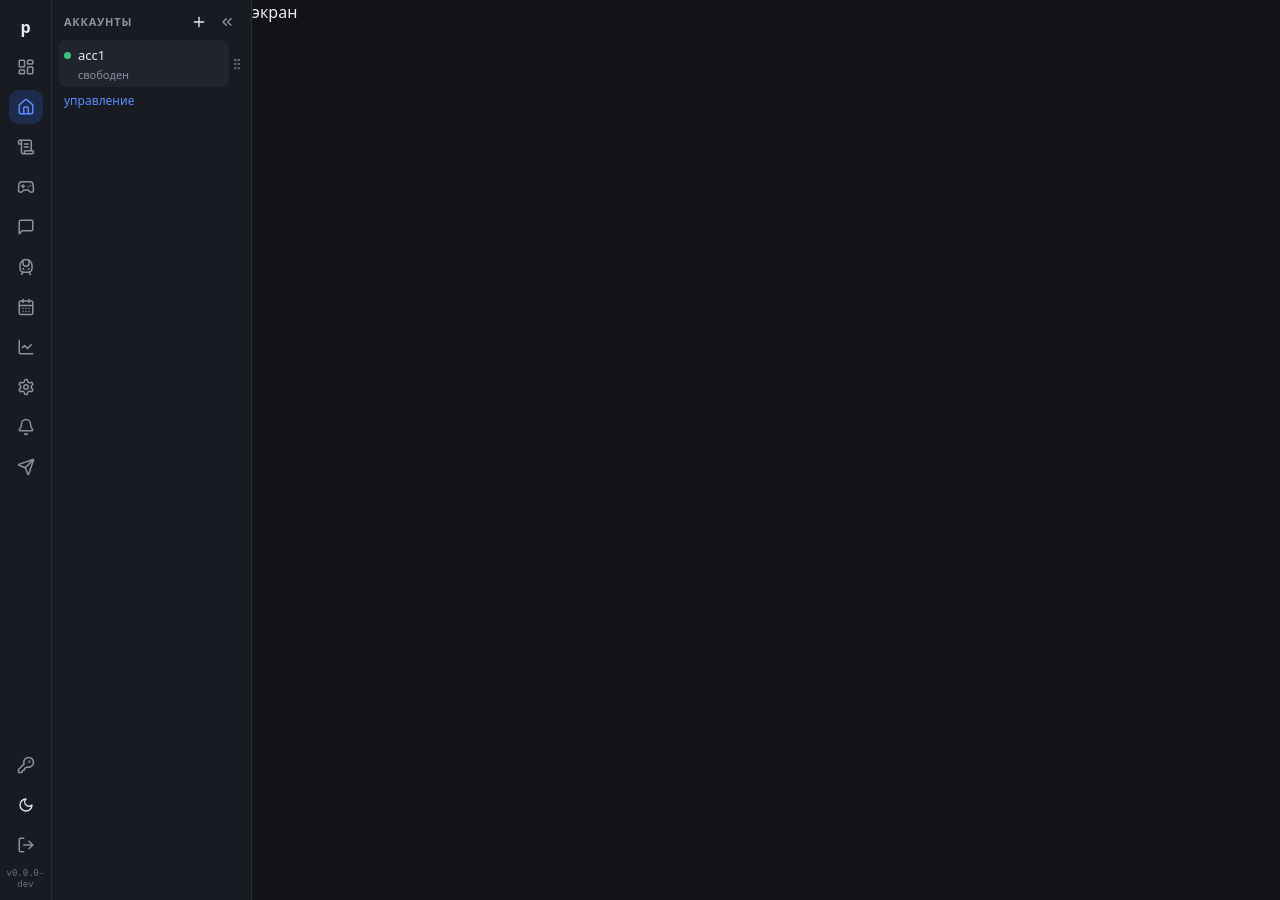
колонка аккаунтов › «+» открывает создание аккаунта, «управление» ведёт на /accounts
The width and height of the screenshot is (1280, 900).
Click the button named "Добавить аккаунт". click: (199, 22)
box: [187,10,211,34]
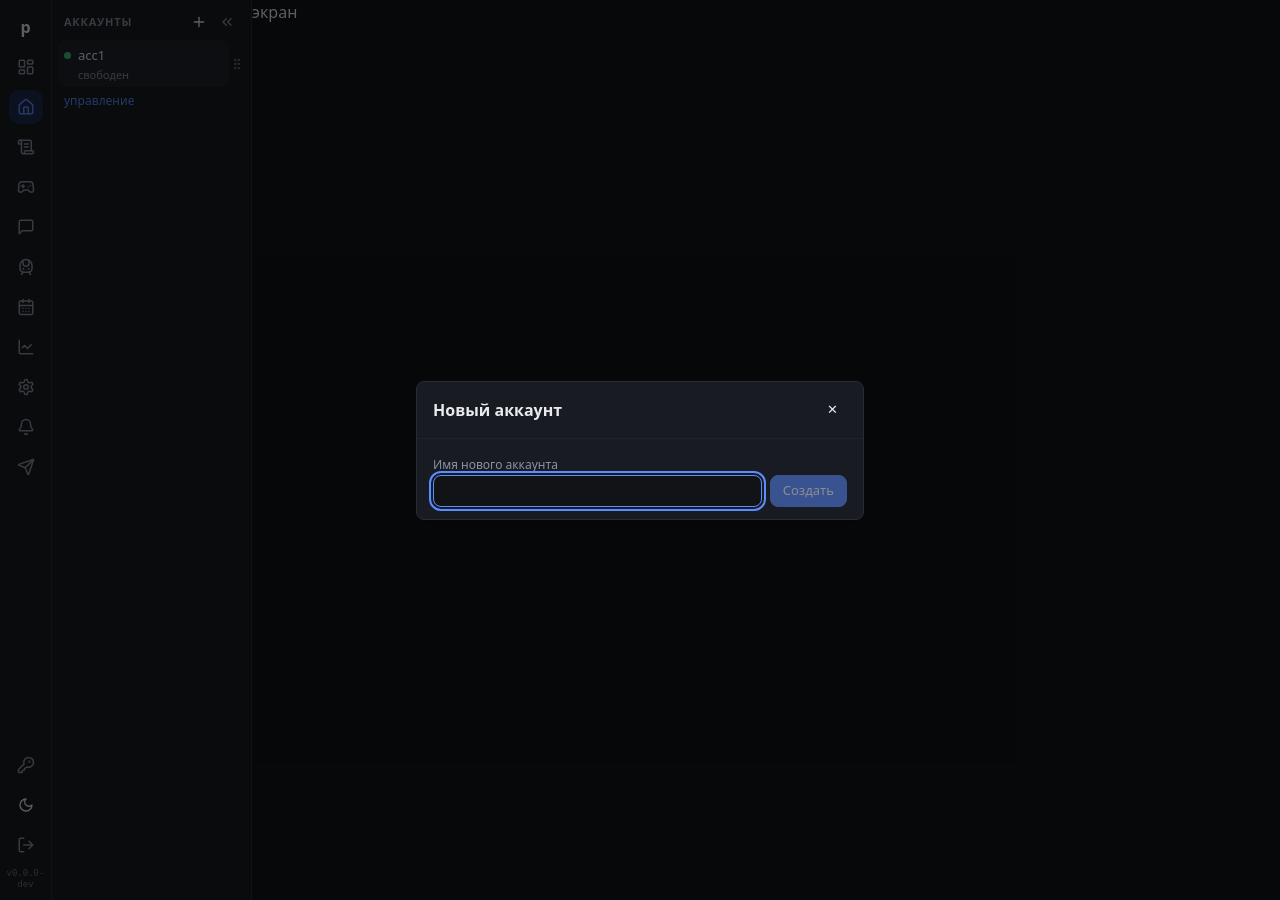
Expected: the field labelled "Имя нового аккаунта" is shown, [433,474,762,506]
Expected: the button "Создать" is disabled, [770,474,847,506]
